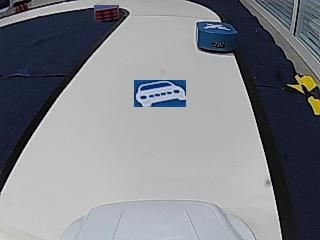prop: (196, 22, 237, 54)
